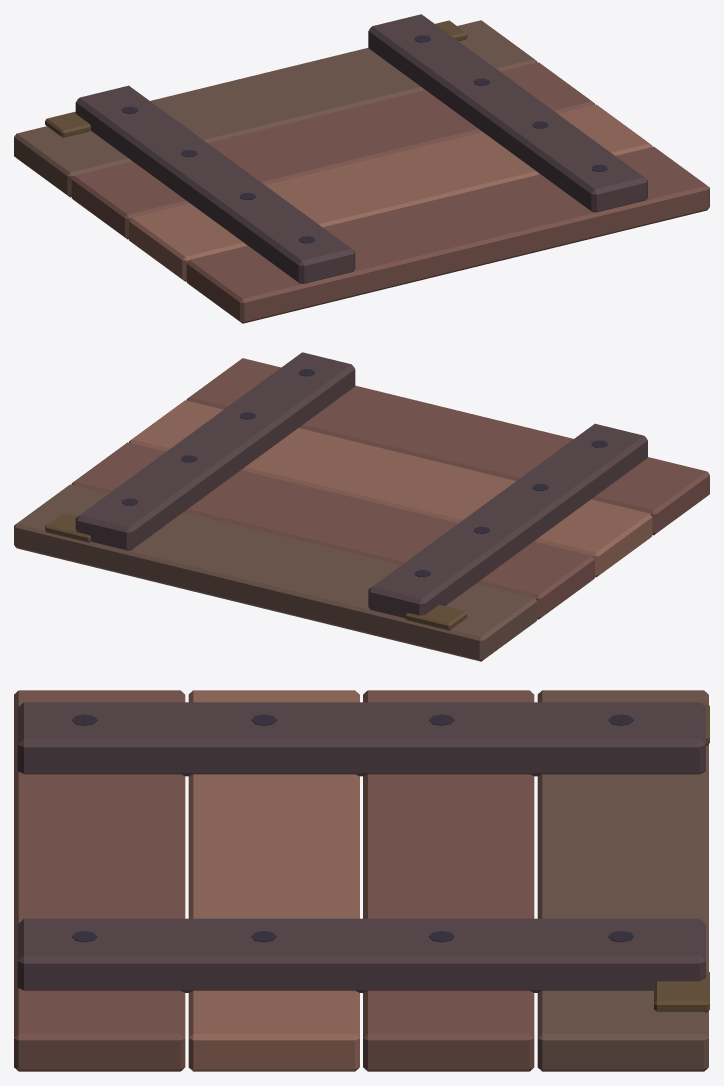
The model's file is crate_lid.glb.
The picture shows the model from 3 angles, top to bottom: view 1: azimuth 30°, elevation 25°; view 2: azimuth 150°, elevation 25°; view 3: azimuth 270°, elevation 25°; orthographic projection. The views are drawn at different scales.
Parts seen in each view (by area): view 1: crate_lid; view 2: crate_lid; view 3: crate_lid.
Part boxes in pixels (<box>): crate_lid: <box>14,14,709,323</box>; crate_lid: <box>14,352,709,661</box>; crate_lid: <box>14,690,709,1071</box>.
Bounding box in the file's own units: 0.514 × 0.0495 × 0.4347.
